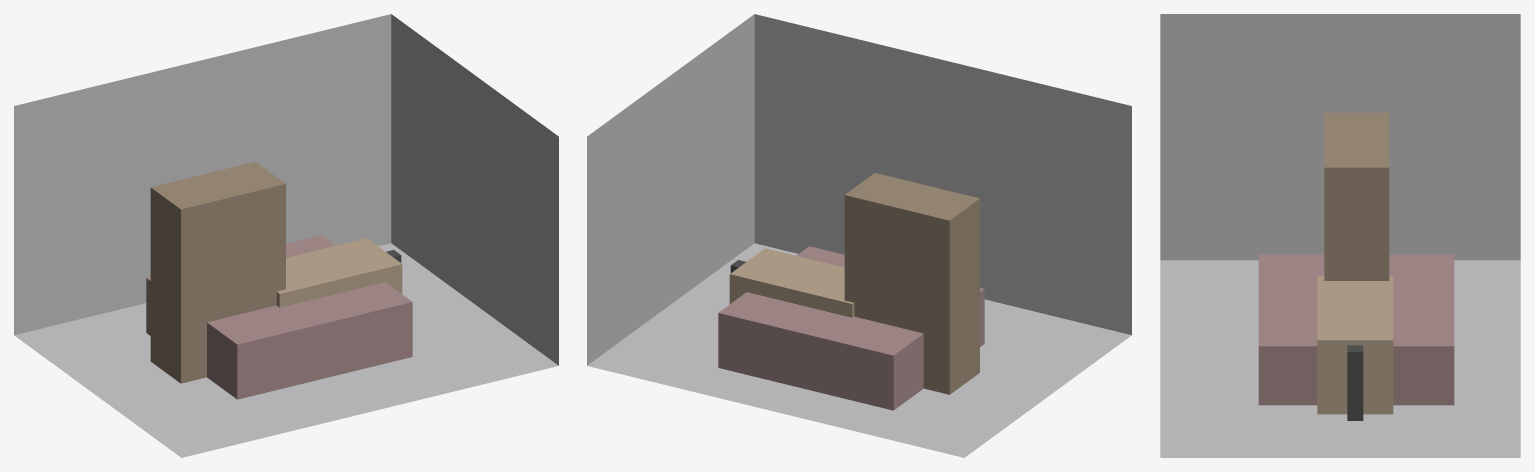
The model's file is optimised_layout.glb.
3 renders of one model, left to right at view 1: azimuth 30°, elevation 25°; view 2: azimuth 150°, elevation 25°; view 3: azimuth 270°, elevation 25°, orthographic. The views are drawn at different scales.
Visible parts, largest first — view 1: room, wardrobe, bed, desk; view 2: room, wardrobe, bed, desk; view 3: room, bed, wardrobe, desk, tv.
Boxes of the visible parts, bbox=[...] form: room: bbox=[14, 14, 558, 457]; wardrobe: bbox=[150, 161, 285, 383]; bed: bbox=[146, 235, 412, 399]; desk: bbox=[276, 238, 402, 307]; room: bbox=[587, 14, 1131, 457]; wardrobe: bbox=[844, 173, 979, 394]; bed: bbox=[718, 246, 984, 410]; desk: bbox=[729, 248, 854, 317]; room: bbox=[1160, 14, 1520, 457]; bed: bbox=[1258, 254, 1454, 405]; wardrobe: bbox=[1324, 112, 1389, 280]; desk: bbox=[1317, 276, 1393, 414]; tv: bbox=[1347, 345, 1363, 420].
Bounding box in the file's own units: 4.31 × 2.5 × 3.31.
